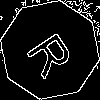R: (25, 25, 83, 80)
